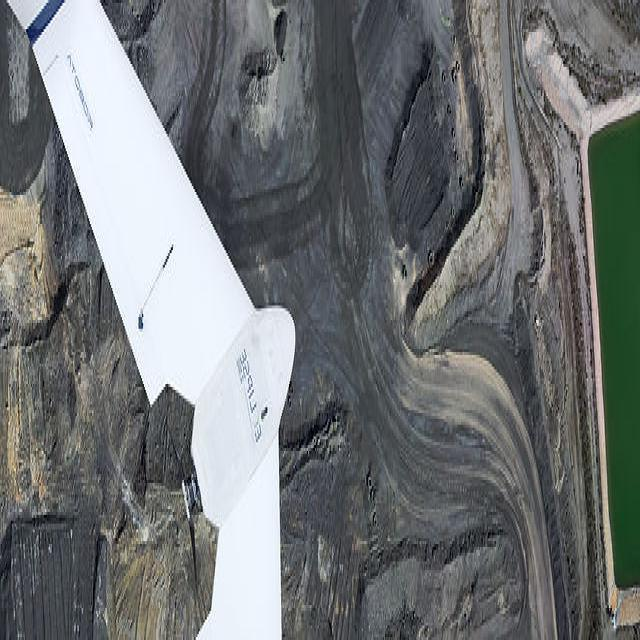iha: (75, 11, 297, 634)
